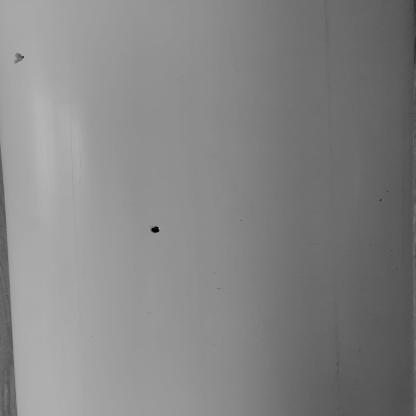kongdong: (138, 223, 189, 245), (8, 50, 34, 70)
